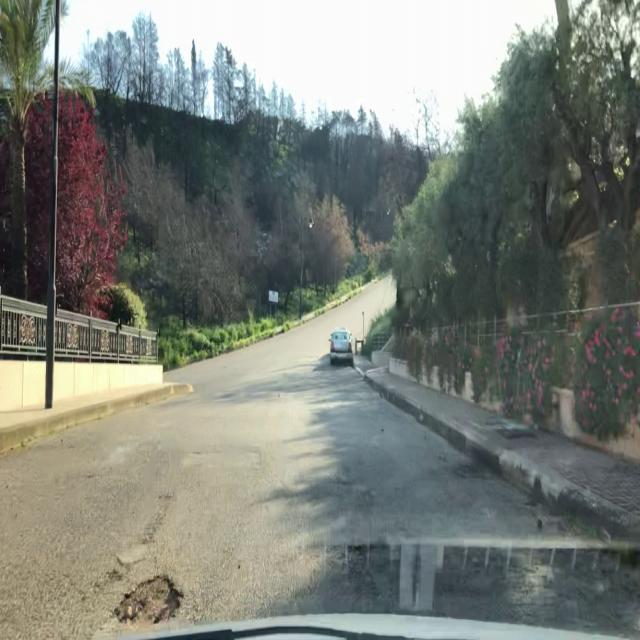Pothole: (105, 568, 187, 628)
